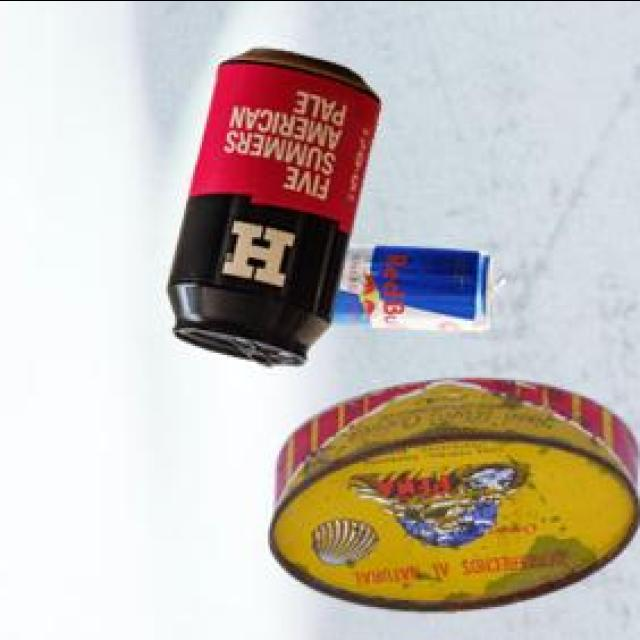logam: (267, 382, 637, 614), (165, 51, 378, 369), (326, 246, 505, 332)
